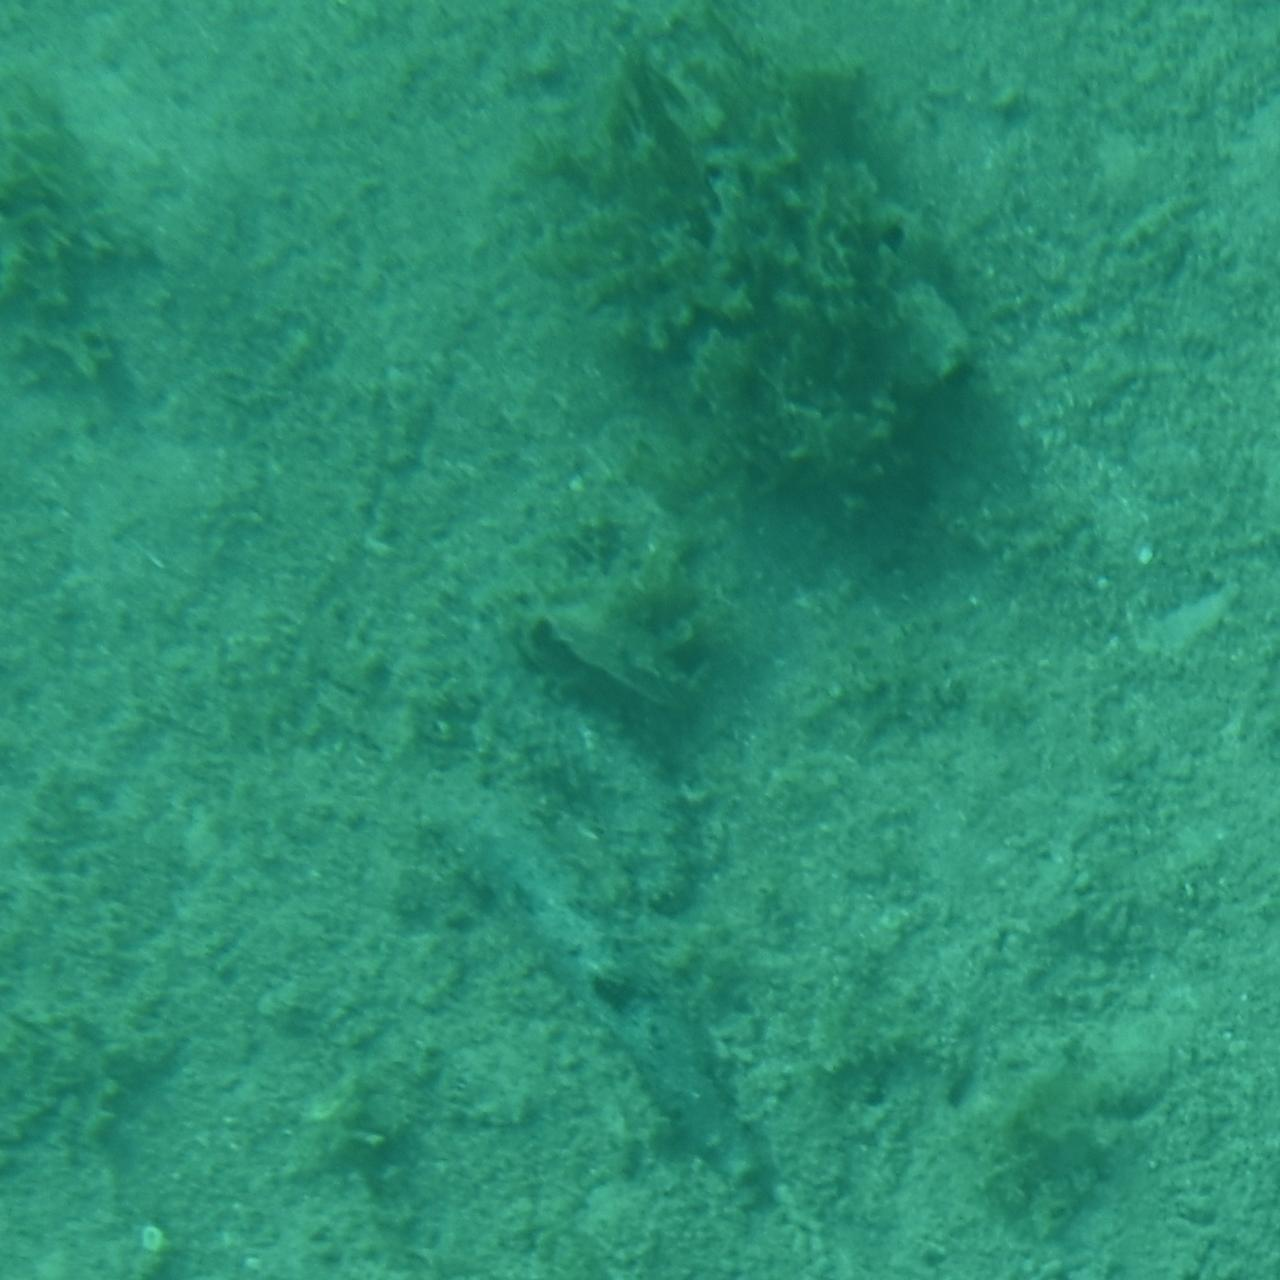Holothuria tubulosa: (383, 467, 699, 934), (418, 817, 777, 1205)
Phaeophyceae -cfr Cystoseira-: (519, 26, 959, 512)
